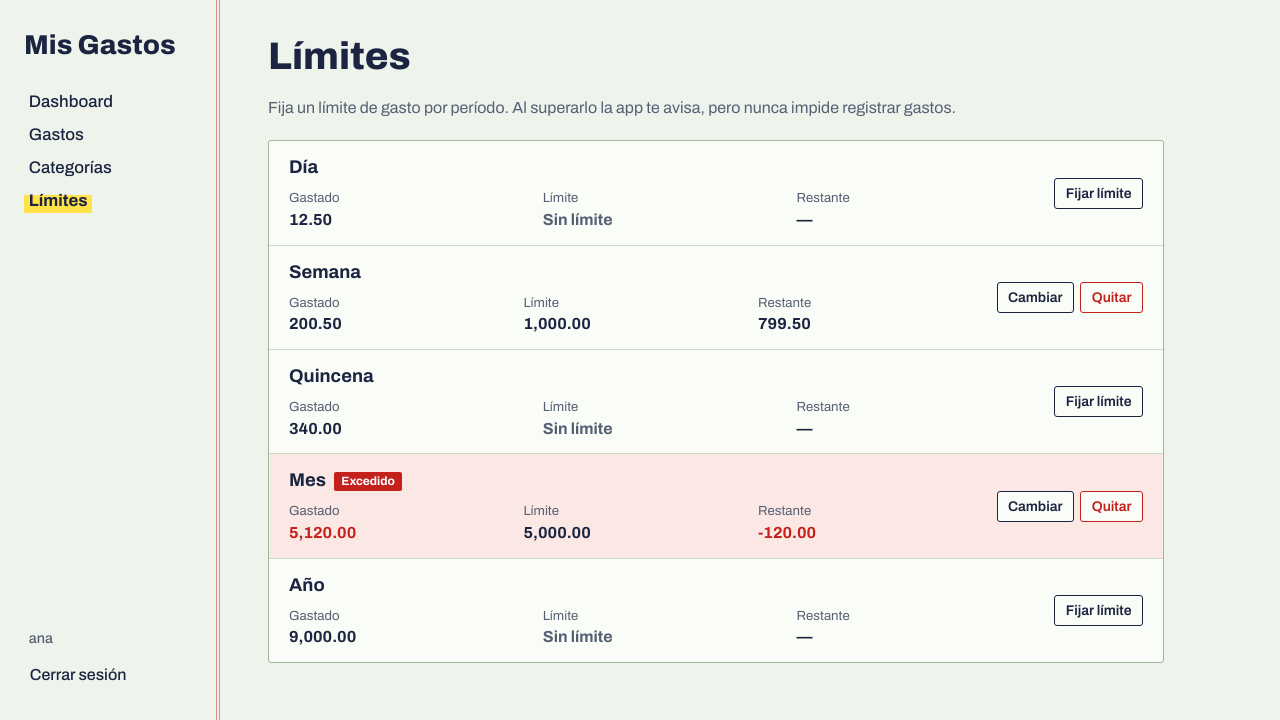
Test: LimitsPage: set, change and remove › does not remove the limit when the confirmation is cancelled
Expected: the heading "Límites" is shown, [268, 36, 411, 76]
Click the button with aria-label "Quitar límite de Semana".
click(1112, 297)  # box [1080, 282, 1143, 313]
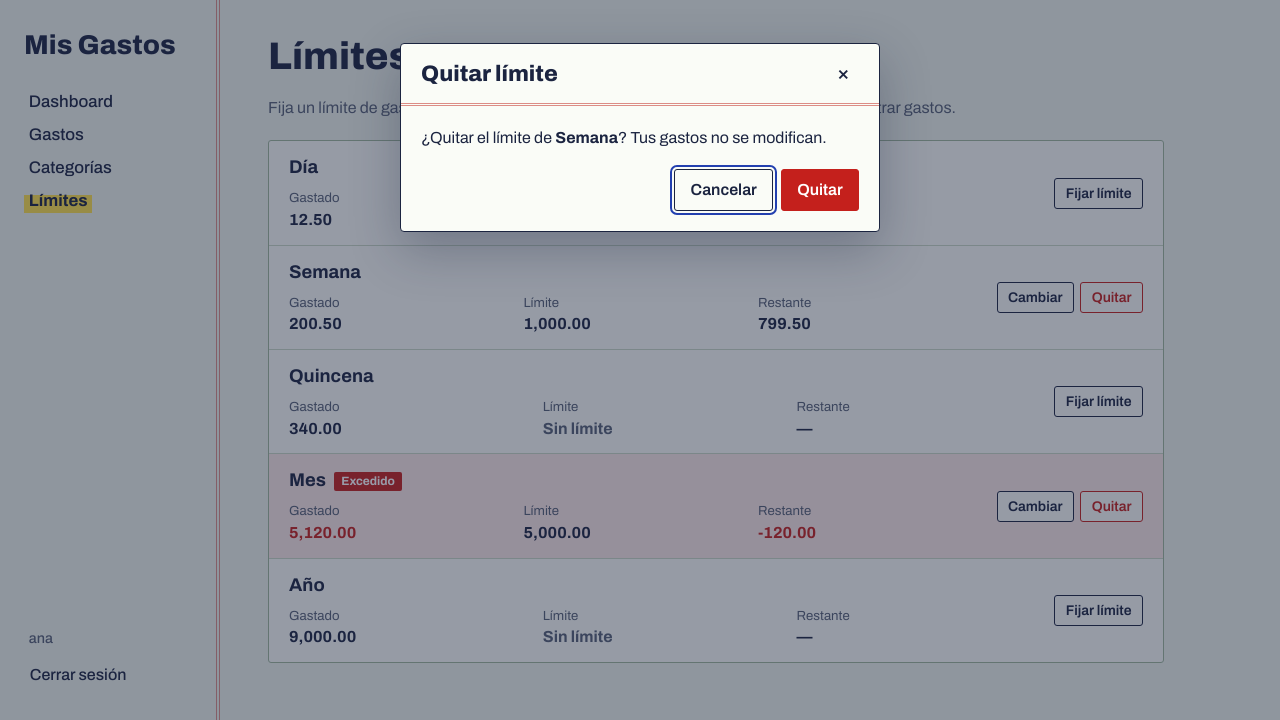
Click the button "Cancelar".
click(724, 190)  # box [674, 169, 773, 211]
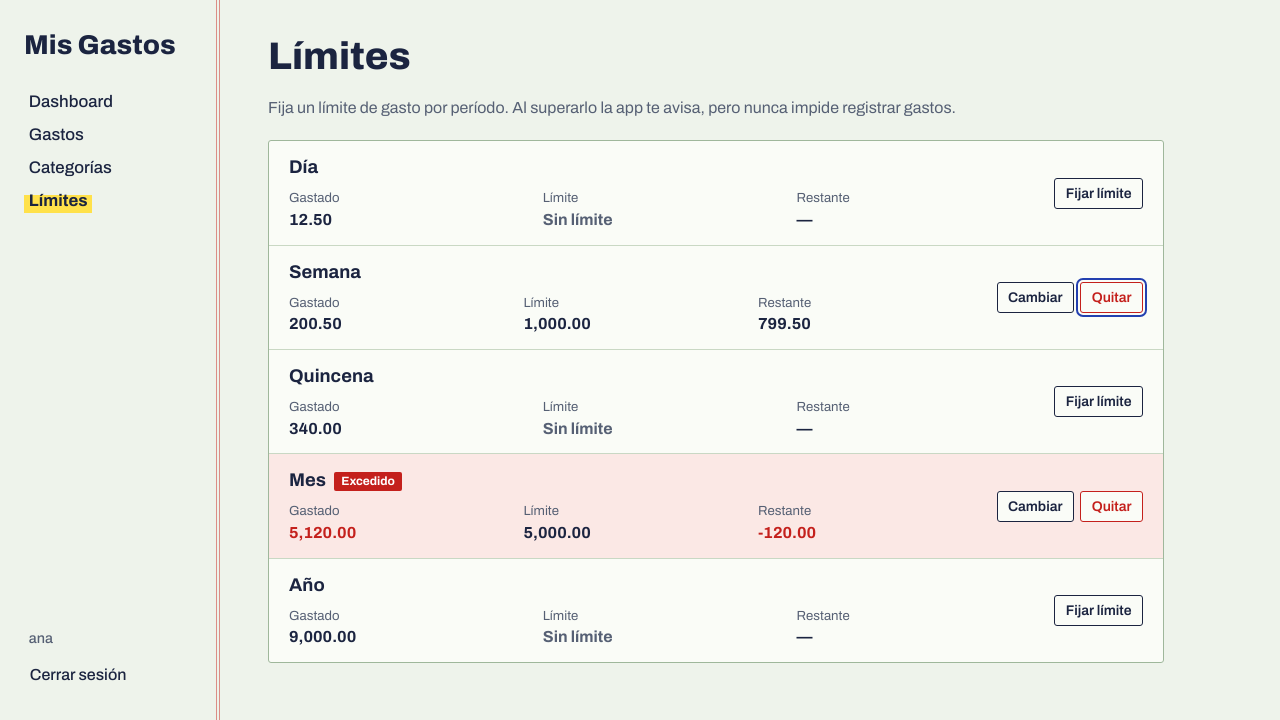
Expected: the text "1,000.00" is shown, [524, 315, 591, 332]
Expected: the dialog is gone
